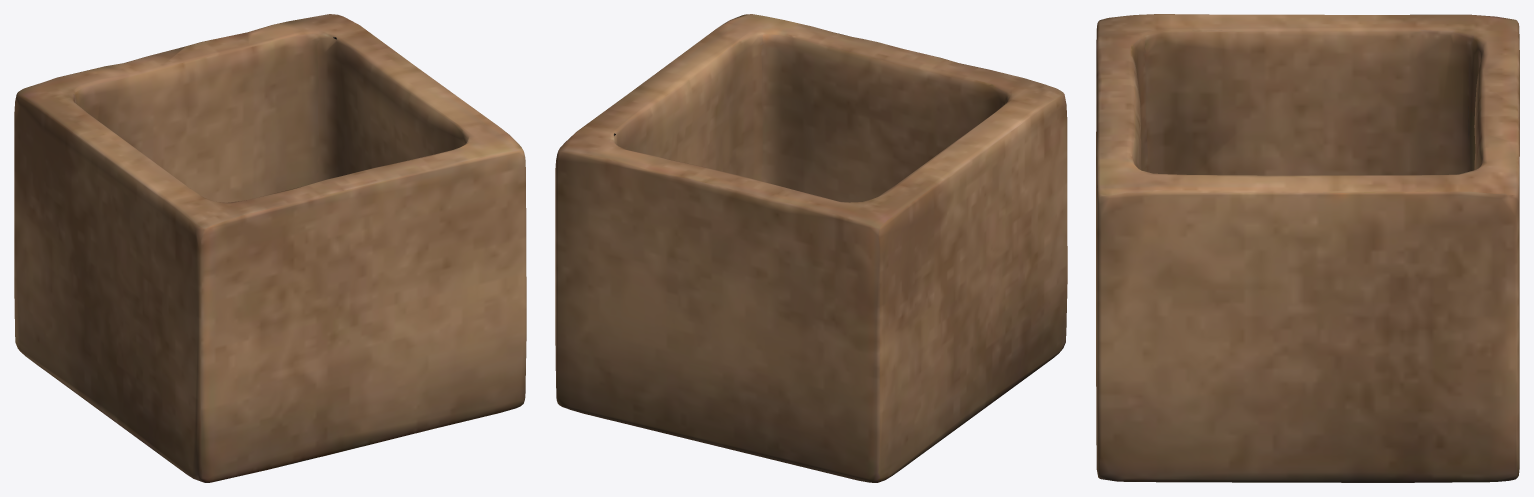
The model's file is plain-sandstone-planter-v001.glb.
3 renders of one model, left to right at view 1: azimuth 30°, elevation 25°; view 2: azimuth 150°, elevation 25°; view 3: azimuth 270°, elevation 25°, orthographic. The views are drawn at different scales.
Visible parts, largest first — view 1: plain-sandstone-planter; view 2: plain-sandstone-planter; view 3: plain-sandstone-planter.
Boxes of the visible parts, x1=… form: plain-sandstone-planter: x1=14, y1=14, x2=526, y2=482; plain-sandstone-planter: x1=555, y1=14, x2=1067, y2=482; plain-sandstone-planter: x1=1096, y1=14, x2=1519, y2=482.
Bounding box in the file's own units: 0.5789 × 0.4496 × 0.5779.
Materials: 1 (1 with a texture image).
